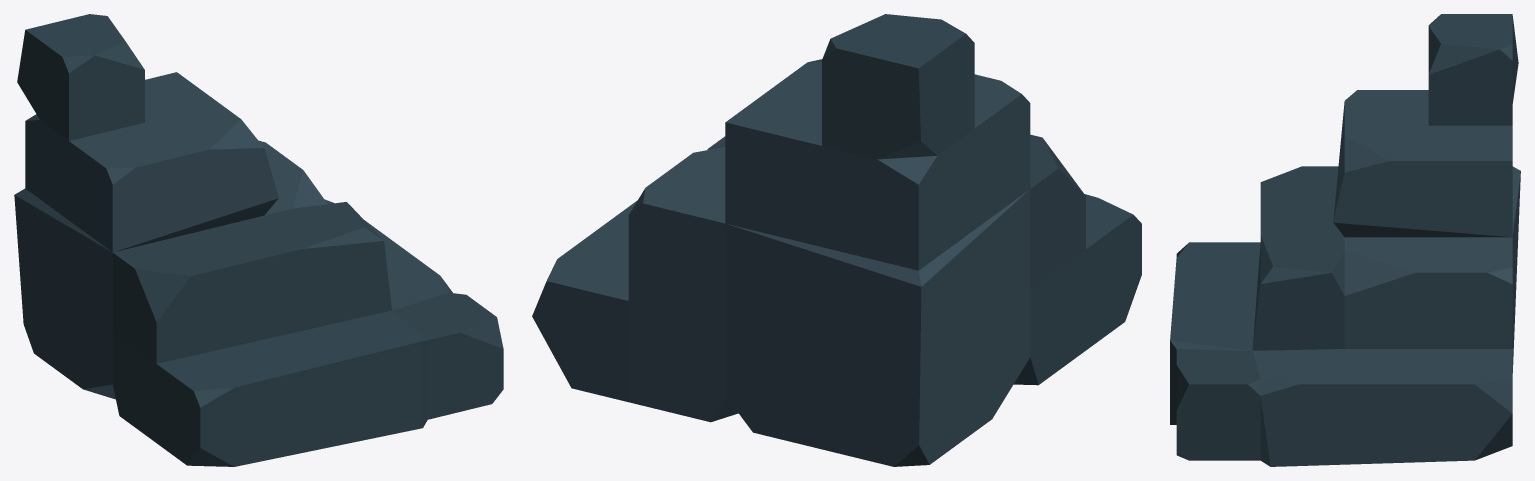
The model's file is stair_straight_narrow_corner_conv.fbx.
3 views of the same model, side by side, from view 1: azimuth 30°, elevation 25°; view 2: azimuth 150°, elevation 25°; view 3: azimuth 270°, elevation 25° (orthographic). The views are drawn at different scales.
Visible parts, largest first — view 1: stair_straight_narrow_corner_conv; view 2: stair_straight_narrow_corner_conv; view 3: stair_straight_narrow_corner_conv.
Boxes of the visible parts, x1=… form: stair_straight_narrow_corner_conv: x1=14, y1=14, x2=503, y2=466; stair_straight_narrow_corner_conv: x1=532, y1=14, x2=1141, y2=466; stair_straight_narrow_corner_conv: x1=1170, y1=14, x2=1520, y2=466.
Bounding box in the file's own units: 104 × 101 × 104.
